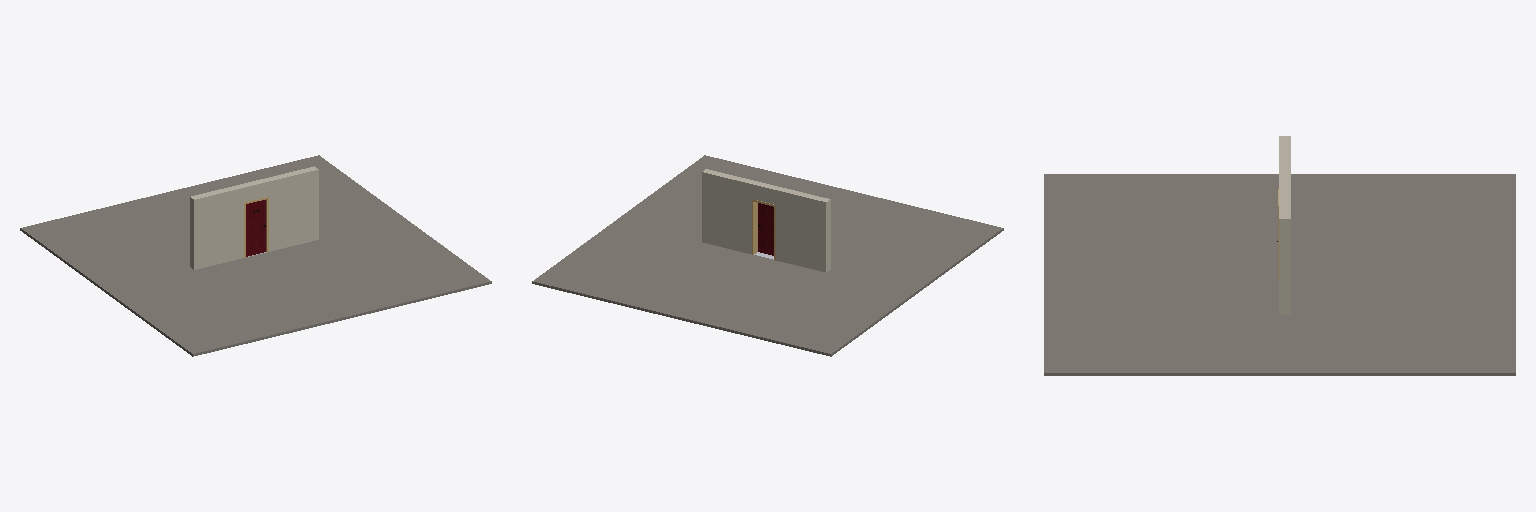
URDF robot description (db0824_swing_single_full):
<?xml version="1.0" ?>
<robot xmlns:doorbench="https://github.com/adamraudonis/DoorBench/schema/urdf-ext" name="db0824_swing_single_full">
  <link name="world_env">
    <visual name="floor_vis">
      <origin xyz="0 0 -0.05" rpy="0 0 0"/>
      <geometry>
        <box size="12 12 0.1"/>
      </geometry>
      <material name="mat_floor"/>
    </visual>
    <collision name="floor_col">
      <origin xyz="0 0 -0.05" rpy="0 0 0"/>
      <geometry>
        <box size="12 12 0.1"/>
      </geometry>
    </collision>
    <visual name="wall_left_vis">
      <origin xyz="-1.46475 0.121 1.35" rpy="0 0 0"/>
      <geometry>
        <box size="2.0705 0.3 2.7"/>
      </geometry>
      <material name="mat_wall"/>
    </visual>
    <collision name="wall_left_col">
      <origin xyz="-1.46475 0.121 1.35" rpy="0 0 0"/>
      <geometry>
        <box size="2.0705 0.3 2.7"/>
      </geometry>
    </collision>
    <visual name="wall_right_vis">
      <origin xyz="1.47975 0.121 1.35" rpy="0 0 0"/>
      <geometry>
        <box size="2.0405 0.3 2.7"/>
      </geometry>
      <material name="mat_wall"/>
    </visual>
    <collision name="wall_right_col">
      <origin xyz="1.47975 0.121 1.35" rpy="0 0 0"/>
      <geometry>
        <box size="2.0405 0.3 2.7"/>
      </geometry>
    </collision>
    <visual name="wall_header_vis">
      <origin xyz="0.015 0.121 2.397" rpy="0 0 0"/>
      <geometry>
        <box size="0.889 0.3 0.606"/>
      </geometry>
      <material name="mat_wall"/>
    </visual>
    <collision name="wall_header_col">
      <origin xyz="0.015 0.121 2.397" rpy="0 0 0"/>
      <geometry>
        <box size="0.889 0.3 0.606"/>
      </geometry>
    </collision>
    <visual name="hinge_0_jamb_vis">
      <origin xyz="-0.4075 -0.029 0.267" rpy="0 0 0"/>
      <geometry>
        <mesh filename="../../hardware/hinge_jamb_e1d088f8dc.obj"/>
      </geometry>
      <material name="mat_hinge"/>
    </visual>
    <visual name="hinge_1_jamb_vis">
      <origin xyz="-0.4075 -0.029 1.029" rpy="0 0 0"/>
      <geometry>
        <mesh filename="../../hardware/hinge_jamb_e1d088f8dc.obj"/>
      </geometry>
      <material name="mat_hinge"/>
    </visual>
    <visual name="hinge_2_jamb_vis">
      <origin xyz="-0.4075 -0.029 1.861" rpy="0 0 0"/>
      <geometry>
        <mesh filename="../../hardware/hinge_jamb_e1d088f8dc.obj"/>
      </geometry>
      <material name="mat_hinge"/>
    </visual>
    <visual name="jamb_hinge_vis">
      <origin xyz="-0.42 0.121 1.0225" rpy="0 0 0"/>
      <geometry>
        <box size="0.019 0.3 2.045"/>
      </geometry>
      <material name="mat_frame"/>
    </visual>
    <collision name="jamb_hinge_col">
      <origin xyz="-0.42 0.121 1.0225" rpy="0 0 0"/>
      <geometry>
        <box size="0.019 0.3 2.045"/>
      </geometry>
    </collision>
    <visual name="strike_1050_wall_n_vis">
      <origin xyz="0.435 0.139425 1.05" rpy="0 0 0"/>
      <geometry>
        <box size="0.049 0.26315 0.0334"/>
      </geometry>
      <material name="mat_frame"/>
    </visual>
    <collision name="strike_1050_wall_n_col">
      <origin xyz="0.435 0.139425 1.05" rpy="0 0 0"/>
      <geometry>
        <box size="0.049 0.26315 0.0334"/>
      </geometry>
    </collision>
    <visual name="strike_1050_wall_p_vis">
      <origin xyz="0.435 -0.01585 1.05" rpy="0 0 0"/>
      <geometry>
        <box size="0.049 0.016 0.0334"/>
      </geometry>
      <material name="mat_frame"/>
    </visual>
    <collision name="strike_1050_wall_p_col">
      <origin xyz="0.435 -0.01585 1.05" rpy="0 0 0"/>
      <geometry>
        <box size="0.049 0.016 0.0334"/>
      </geometry>
    </collision>
    <visual name="strike_1050_ramp_vis">
      <origin xyz="0.439636 -0.028673 1.05" rpy="0 0 0.428384"/>
      <geometry>
        <box size="0.049 0.03298 0.0334"/>
      </geometry>
      <material name="mat_frame"/>
    </visual>
    <collision name="strike_1050_ramp_col">
      <origin xyz="0.439636 -0.028673 1.05" rpy="0 0 0.428384"/>
      <geometry>
        <box size="0.049 0.03298 0.0334"/>
      </geometry>
    </collision>
    <visual name="strike_1050_back_vis">
      <origin xyz="0.44335 0 1.05" rpy="0 0 0"/>
      <geometry>
        <box size="0.0323 0.0157 0.0334"/>
      </geometry>
      <material name="mat_frame"/>
    </visual>
    <collision name="strike_1050_back_col">
      <origin xyz="0.44335 0 1.05" rpy="0 0 0"/>
      <geometry>
        <box size="0.0323 0.0157 0.0334"/>
      </geometry>
    </collision>
    <visual name="jamb_strike_0_vis">
      <origin xyz="0.435 0.121 0.51665" rpy="0 0 0"/>
      <geometry>
        <box size="0.049 0.3 1.0333"/>
      </geometry>
      <material name="mat_frame"/>
    </visual>
    <collision name="jamb_strike_0_col">
      <origin xyz="0.435 0.121 0.51665" rpy="0 0 0"/>
      <geometry>
        <box size="0.049 0.3 1.0333"/>
      </geometry>
    </collision>
    <visual name="jamb_strike_1_vis">
      <origin xyz="0.435 0.121 1.55585" rpy="0 0 0"/>
      <geometry>
        <box size="0.049 0.3 0.9783"/>
      </geometry>
      <material name="mat_frame"/>
    </visual>
    <collision name="jamb_strike_1_col">
      <origin xyz="0.435 0.121 1.55585" rpy="0 0 0"/>
      <geometry>
        <box size="0.049 0.3 0.9783"/>
      </geometry>
    </collision>
    <visual name="jamb_head_vis">
      <origin xyz="0.015 0.121 2.0545" rpy="0 0 0"/>
      <geometry>
        <box size="0.889 0.3 0.019"/>
      </geometry>
      <material name="mat_frame"/>
    </visual>
    <collision name="jamb_head_col">
      <origin xyz="0.015 0.121 2.0545" rpy="0 0 0"/>
      <geometry>
        <box size="0.889 0.3 0.019"/>
      </geometry>
    </collision>
    <visual name="head_stud_vis">
      <origin xyz="0.015 0.121 2.079" rpy="0 0 0"/>
      <geometry>
        <box size="0.889 0.3 0.03"/>
      </geometry>
      <material name="mat_wall"/>
    </visual>
    <collision name="head_stud_col">
      <origin xyz="0.015 0.121 2.079" rpy="0 0 0"/>
      <geometry>
        <box size="0.889 0.3 0.03"/>
      </geometry>
    </collision>
    <visual name="stop_hinge_vis">
      <origin xyz="-0.405 0.0385 1.0225" rpy="0 0 0"/>
      <geometry>
        <box size="0.011 0.032 2.045"/>
      </geometry>
      <material name="mat_frame"/>
    </visual>
    <collision name="stop_hinge_col">
      <origin xyz="-0.405 0.0385 1.0225" rpy="0 0 0"/>
      <geometry>
        <box size="0.011 0.032 2.045"/>
      </geometry>
    </collision>
    <visual name="stop_strike_vis">
      <origin xyz="0.405 0.0385 1.0225" rpy="0 0 0"/>
      <geometry>
        <box size="0.011 0.032 2.045"/>
      </geometry>
      <material name="mat_frame"/>
    </visual>
    <collision name="stop_strike_col">
      <origin xyz="0.405 0.0385 1.0225" rpy="0 0 0"/>
      <geometry>
        <box size="0.011 0.032 2.045"/>
      </geometry>
    </collision>
    <visual name="stop_head_vis">
      <origin xyz="0 0.0385 2.0395" rpy="0 0 0"/>
      <geometry>
        <box size="0.821 0.032 0.011"/>
      </geometry>
      <material name="mat_frame"/>
    </visual>
    <collision name="stop_head_col">
      <origin xyz="0 0.0385 2.0395" rpy="0 0 0"/>
      <geometry>
        <box size="0.821 0.032 0.011"/>
      </geometry>
    </collision>
    <visual name="seal_hinge_vis">
      <origin xyz="-0.4075 0.025 1.0225" rpy="0 0 0"/>
      <geometry>
        <box size="0.008 0.006 2.045"/>
      </geometry>
      <material name="mat_seal"/>
    </visual>
    <visual name="seal_strike_vis">
      <origin xyz="0.4075 0.025 1.0225" rpy="0 0 0"/>
      <geometry>
        <box size="0.008 0.006 2.045"/>
      </geometry>
      <material name="mat_seal"/>
    </visual>
    <visual name="seal_head_vis">
      <origin xyz="0 0.025 2.033" rpy="0 0 0"/>
      <geometry>
        <box size="0.781 0.006 0.016"/>
      </geometry>
      <material name="mat_seal"/>
    </visual>
    <visual name="casing_l_n_vis">
      <origin xyz="-0.4595 -0.037 1.0225" rpy="0 0 0"/>
      <geometry>
        <box size="0.07 0.016 2.064"/>
      </geometry>
      <material name="mat_frame"/>
    </visual>
    <visual name="casing_r_n_vis">
      <origin xyz="0.4595 -0.037 1.0225" rpy="0 0 0"/>
      <geometry>
        <box size="0.07 0.016 2.064"/>
      </geometry>
      <material name="mat_frame"/>
    </visual>
    <visual name="casing_h_n_vis">
      <origin xyz="0 -0.037 2.094" rpy="0 0 0"/>
      <geometry>
        <box size="0.989 0.016 0.07"/>
      </geometry>
      <material name="mat_frame"/>
    </visual>
    <visual name="casing_l_p_vis">
      <origin xyz="-0.4595 0.279 1.0225" rpy="0 0 0"/>
      <geometry>
        <box size="0.07 0.016 2.064"/>
      </geometry>
      <material name="mat_frame"/>
    </visual>
    <visual name="casing_r_p_vis">
      <origin xyz="0.4595 0.279 1.0225" rpy="0 0 0"/>
      <geometry>
        <box size="0.07 0.016 2.064"/>
      </geometry>
      <material name="mat_frame"/>
    </visual>
    <visual name="casing_h_p_vis">
      <origin xyz="0 0.279 2.094" rpy="0 0 0"/>
      <geometry>
        <box size="0.989 0.016 0.07"/>
      </geometry>
      <material name="mat_frame"/>
    </visual>
    <visual name="threshold_vis">
      <origin xyz="0 0.121 0.0065" rpy="0 0 0"/>
      <geometry>
        <box size="0.859 0.3 0.013"/>
      </geometry>
      <material name="mat_threshold"/>
    </visual>
    <collision name="threshold_col">
      <origin xyz="0 0.121 0.0065" rpy="0 0 0"/>
      <geometry>
        <box size="0.859 0.3 0.013"/>
      </geometry>
    </collision>
    <visual name="weather_drip_cap_vis">
      <origin xyz="0 0.03 2.09" rpy="0 0 0"/>
      <geometry>
        <box size="0.921 0.06 0.016"/>
      </geometry>
      <material name="mat_drip"/>
    </visual>
    <visual name="weather_drip_cap_bracket_vis">
      <origin xyz="0 -0.0145 2.09" rpy="0 0 0"/>
      <geometry>
        <box size="0.2763 0.03 0.01"/>
      </geometry>
      <material name="mat_drip"/>
    </visual>
  </link>
  <link name="leaf">
    <inertial>
      <origin xyz="0.393696 0.028306 1.032957" rpy="0 0 0"/>
      <mass value="22.946411"/>
      <inertia ixx="7.904312408" ixy="-0.005154273" ixz="0.005705585" iyy="9.237602345" iyz="0.002063631" izz="1.341364769"/>
    </inertial>
    <visual name="leaf_slab_vis">
      <origin xyz="0.4065 0.029 1.029" rpy="0 0 0"/>
      <geometry>
        <box size="0.813 0.044 2.024"/>
      </geometry>
      <material name="mat_leaf"/>
    </visual>
    <collision name="leaf_slab_col">
      <origin xyz="0.4065 0.029 1.029" rpy="0 0 0"/>
      <geometry>
        <box size="0.813 0.044 2.024"/>
      </geometry>
    </collision>
    <visual name="leaf_panel_0_n_vis">
      <origin xyz="0.22575 0.004 0.467664" rpy="0 0 0"/>
      <geometry>
        <box size="0.2315 0.006 0.416048"/>
      </geometry>
      <material name="mat_leaf_panel"/>
    </visual>
    <visual name="leaf_panel_0_p_vis">
      <origin xyz="0.22575 0.054 0.467664" rpy="0 0 0"/>
      <geometry>
        <box size="0.2315 0.006 0.416048"/>
      </geometry>
      <material name="mat_leaf_panel"/>
    </visual>
    <visual name="leaf_panel_1_n_vis">
      <origin xyz="0.58725 0.004 0.467664" rpy="0 0 0"/>
      <geometry>
        <box size="0.2315 0.006 0.416048"/>
      </geometry>
      <material name="mat_leaf_panel"/>
    </visual>
    <visual name="leaf_panel_1_p_vis">
      <origin xyz="0.58725 0.054 0.467664" rpy="0 0 0"/>
      <geometry>
        <box size="0.2315 0.006 0.416048"/>
      </geometry>
      <material name="mat_leaf_panel"/>
    </visual>
    <visual name="leaf_panel_2_n_vis">
      <origin xyz="0.22575 0.004 1.013712" rpy="0 0 0"/>
      <geometry>
        <box size="0.2315 0.006 0.416048"/>
      </geometry>
      <material name="mat_leaf_panel"/>
    </visual>
    <visual name="leaf_panel_2_p_vis">
      <origin xyz="0.22575 0.054 1.013712" rpy="0 0 0"/>
      <geometry>
        <box size="0.2315 0.006 0.416048"/>
      </geometry>
      <material name="mat_leaf_panel"/>
    </visual>
    <visual name="leaf_panel_3_n_vis">
      <origin xyz="0.58725 0.004 1.013712" rpy="0 0 0"/>
      <geometry>
        <box size="0.2315 0.006 0.416048"/>
      </geometry>
      <material name="mat_leaf_panel"/>
    </visual>
    <visual name="leaf_panel_3_p_vis">
      <origin xyz="0.58725 0.054 1.013712" rpy="0 0 0"/>
      <geometry>
        <box size="0.2315 0.006 0.416048"/>
      </geometry>
      <material name="mat_leaf_panel"/>
    </visual>
    <visual name="leaf_panel_4_n_vis">
      <origin xyz="0.22575 0.004 1.635768" rpy="0 0 0"/>
      <geometry>
        <box size="0.2315 0.006 0.568064"/>
      </geometry>
      <material name="mat_leaf_panel"/>
    </visual>
    <visual name="leaf_panel_4_p_vis">
      <origin xyz="0.22575 0.054 1.635768" rpy="0 0 0"/>
      <geometry>
        <box size="0.2315 0.006 0.568064"/>
      </geometry>
      <material name="mat_leaf_panel"/>
    </visual>
    <visual name="leaf_panel_5_n_vis">
      <origin xyz="0.58725 0.004 1.635768" rpy="0 0 0"/>
      <geometry>
        <box size="0.2315 0.006 0.568064"/>
      </geometry>
      <material name="mat_leaf_panel"/>
    </visual>
    <visual name="leaf_panel_5_p_vis">
      <origin xyz="0.58725 0.054 1.635768" rpy="0 0 0"/>
      <geometry>
        <box size="0.2315 0.006 0.568064"/>
      </geometry>
      <material name="mat_leaf_panel"/>
    </visual>
    <visual name="hinge_0_vis">
      <origin xyz="0 0 0.267" rpy="0 0 0"/>
      <geometry>
        <mesh filename="../../hardware/hinge_e22b26c0c1.obj"/>
      </geometry>
      <material name="mat_hinge"/>
    </visual>
    <visual name="hinge_1_vis">
      <origin xyz="0 0 1.029" rpy="0 0 0"/>
      <geometry>
        <mesh filename="../../hardware/hinge_e22b26c0c1.obj"/>
      </geometry>
      <material name="mat_hinge"/>
    </visual>
    <visual name="hinge_2_vis">
      <origin xyz="0 0 1.861" rpy="0 0 0"/>
      <geometry>
        <mesh filename="../../hardware/hinge_e22b26c0c1.obj"/>
      </geometry>
      <material name="mat_hinge"/>
    </visual>
    <visual name="leaf_latch_bolt_faceplate_vis">
      <origin xyz="0.8124 0.029 1.05" rpy="0 0 0"/>
      <geometry>
        <box size="0.0012 0.0247 0.0534"/>
      </geometry>
      <material name="mat_bolt"/>
    </visual>
    <visual name="house_numbers_vis">
      <origin xyz="0.4065 0.007 1.691" rpy="1.570796 0 0"/>
      <geometry>
        <mesh filename="../../hardware/house_numbers_ad0a8e8be0.obj"/>
      </geometry>
      <material name="mat_numbers"/>
    </visual>
  </link>
  <link name="leaf_handle">
    <inertial>
      <origin xyz="-0.018425 0 0" rpy="0 0 0"/>
      <mass value="0.806444"/>
      <inertia ixx="0.002593405" ixy="0" ixz="0" iyy="0.001006485" iyz="0" izz="0.00349528"/>
    </inertial>
    <visual name="leaf_handle_spindle_vis">
      <origin xyz="0 0 0" rpy="-1.570796 0 0"/>
      <geometry>
        <cylinder radius="0.006" length="0.06"/>
      </geometry>
      <material name="mat_op_black_matte_metal"/>
    </visual>
    <visual name="leaf_handle_lever_n_vis">
      <origin xyz="0 -0.022 0" rpy="1.570796 0 0"/>
      <geometry>
        <mesh filename="../../hardware/lever_57205841c3.obj"/>
      </geometry>
      <material name="mat_op_black_matte_metal"/>
    </visual>
    <collision name="leaf_handle_lever_col_n_col">
      <origin xyz="-0.06 -0.077 0" rpy="0 -1.570796 0"/>
      <geometry>
        <cylinder radius="0.007" length="0.106"/>
      </geometry>
    </collision>
    <collision name="leaf_handle_hub_col_n_col">
      <origin xyz="0 -0.052 0" rpy="-1.570796 0 0"/>
      <geometry>
        <cylinder radius="0.012" length="0.044"/>
      </geometry>
    </collision>
    <visual name="leaf_handle_lever_p_vis">
      <origin xyz="0 0.022 0" rpy="-1.570796 0 0"/>
      <geometry>
        <mesh filename="../../hardware/lever_57205841c3.obj"/>
      </geometry>
      <material name="mat_op_black_matte_metal"/>
    </visual>
    <collision name="leaf_handle_lever_col_p_col">
      <origin xyz="-0.06 0.077 0" rpy="0 -1.570796 0"/>
      <geometry>
        <cylinder radius="0.007" length="0.106"/>
      </geometry>
    </collision>
    <collision name="leaf_handle_hub_col_p_col">
      <origin xyz="0 0.052 0" rpy="-1.570796 0 0"/>
      <geometry>
        <cylinder radius="0.012" length="0.044"/>
      </geometry>
    </collision>
  </link>
  <link name="leaf_latch_bolt">
    <inertial>
      <origin xyz="-0.00865 0 0" rpy="0 0 0"/>
      <mass value="0.041419"/>
      <inertia ixx="0.000000798" ixy="0" ixz="0" iyy="0.000005598" iyz="0" izz="0.000005598"/>
    </inertial>
    <visual name="leaf_latch_bolt_capsule_vis">
      <origin xyz="-0.00865 0 0" rpy="0 1.570796 0"/>
      <geometry>
        <cylinder radius="0.00635" length="0.03"/>
      </geometry>
      <material name="mat_bolt"/>
    </visual>
    <collision name="leaf_latch_bolt_capsule_col">
      <origin xyz="-0.00865 0 0" rpy="0 1.570796 0"/>
      <geometry>
        <cylinder radius="0.00635" length="0.03"/>
      </geometry>
    </collision>
  </link>
  <joint name="leaf_hinge" type="revolute">
    <origin xyz="-0.4075 -0.029 0" rpy="0 0 0"/>
    <parent link="world_env"/>
    <child link="leaf"/>
    <axis xyz="0 0 -1"/>
    <limit lower="0" upper="1.745329" effort="2000" velocity="10"/>
    <dynamics damping="0.210326" friction="3.521929"/>
    <doorbench:closer damping_closing="0" damping_opening="0" backcheck_angle="0" backcheck_damping="0"/>
  </joint>
  <joint name="leaf_handle_hinge" type="revolute">
    <origin xyz="0.743 0.029 1.05" rpy="0 0 0"/>
    <parent link="leaf"/>
    <child link="leaf_handle"/>
    <axis xyz="0 -1 0"/>
    <limit lower="0" upper="0.87" effort="2000" velocity="10"/>
    <dynamics damping="0.212417" friction="0.042"/>
    <doorbench:spring stiffness="1" springref="-0.35" note="tau = -stiffness*(q - springref); not native URDF"/>
  </joint>
  <joint name="leaf_latch_bolt_slide" type="prismatic">
    <origin xyz="0.813 0.029 1.05" rpy="0 0 0"/>
    <parent link="leaf"/>
    <child link="leaf_latch_bolt"/>
    <axis xyz="-1 0 0"/>
    <limit lower="0" upper="0.0127" effort="5000" velocity="10"/>
    <dynamics damping="2" friction="0.3"/>
    <doorbench:spring stiffness="300" springref="-0.008333" note="tau = -stiffness*(q - springref); not native URDF"/>
    <mimic joint="leaf_handle_hinge" multiplier="0.015679" offset="0"/>
    <doorbench:coupling one_sided="true" note="MJCF uses a one-sided tendon (bolt may retract further, e.g. riding over the strike lip); mimic is bilateral"/>
  </joint>
  <material name="mat_bolt">
    <color rgba="0.85 0.66 0.3 1"/>
  </material>
  <material name="mat_drip">
    <color rgba="0.8 0.81 0.83 1"/>
  </material>
  <material name="mat_floor">
    <color rgba="0.55 0.53 0.5 1"/>
  </material>
  <material name="mat_frame">
    <color rgba="0.82 0.7 0.5 1"/>
  </material>
  <material name="mat_hinge">
    <color rgba="0.45 0.3 0.22 1"/>
  </material>
  <material name="mat_leaf">
    <color rgba="0.4 0.08 0.12 1"/>
  </material>
  <material name="mat_leaf_panel">
    <color rgba="0.368 0.074 0.11 1"/>
  </material>
  <material name="mat_numbers">
    <color rgba="0.05 0.05 0.05 1"/>
  </material>
  <material name="mat_op_black_matte_metal">
    <color rgba="0.05 0.05 0.05 1"/>
  </material>
  <material name="mat_seal">
    <color rgba="0.1 0.1 0.1 1"/>
  </material>
  <material name="mat_threshold">
    <color rgba="0.8 0.81 0.83 1"/>
  </material>
  <material name="mat_wall">
    <color rgba="0.78 0.76 0.7 1"/>
  </material>
</robot>

--- What the picture shows (computed from the rendered views, not written in the file) ---
3 views of the same robot in one strip: view 1: azimuth 30°, elevation 25°; view 2: azimuth 150°, elevation 25°; view 3: azimuth 270°, elevation 25° (orthographic).
Model db0824_swing_single_full with 4 links and 3 joints (2 revolute, 1 prismatic), rooted at world_env, posed every joint at zero.
Links seen in each view (by area): view 1: world_env, leaf; view 2: world_env, leaf; view 3: world_env.
Boxes of the visible links, box(x1,y1,x2,y2) form: world_env: box(20, 155, 491, 356); leaf: box(246, 200, 265, 256); world_env: box(532, 155, 1003, 356); leaf: box(758, 203, 773, 255); world_env: box(1044, 136, 1515, 375).
Bounding box of the posed robot: 12 × 12 × 2.8 m (x, y, z).
9 mesh visuals loaded from 4 distinct referenced files (4 OBJ).
